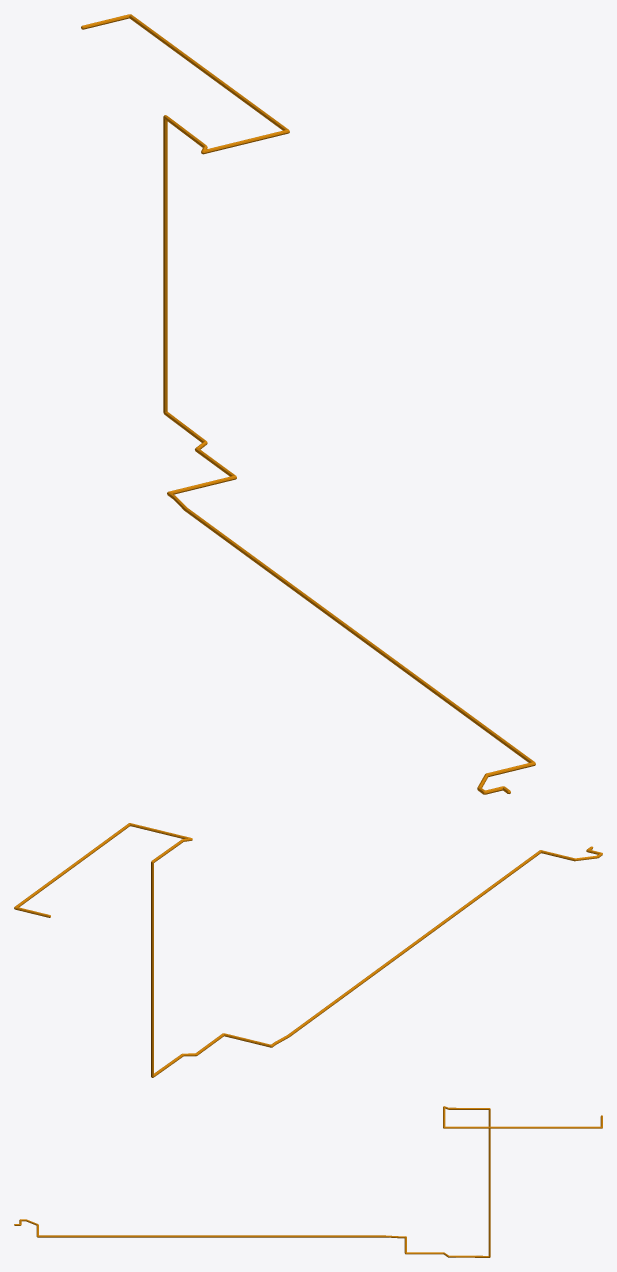
3 views of the same model, one above another, from view 1: azimuth 30°, elevation 25°; view 2: azimuth 150°, elevation 25°; view 3: azimuth 270°, elevation 25° (orthographic). The views are drawn at different scales.
Bounding box in the file's own units: 1224 × 1520 × 5416.
